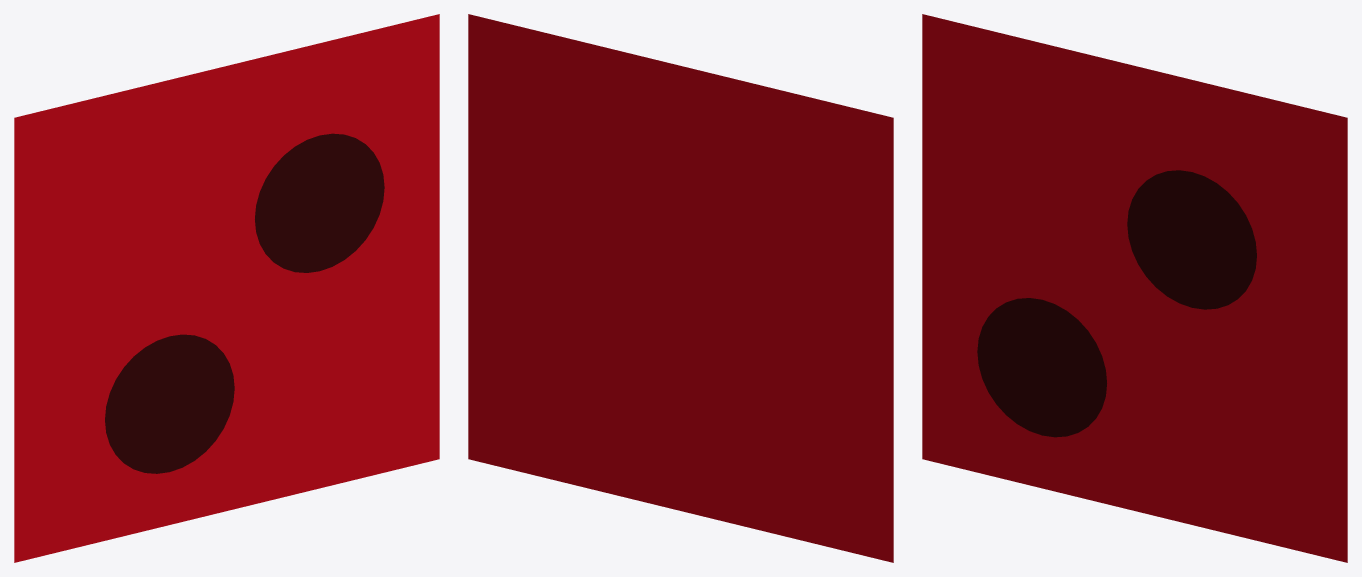
Rendered from enemy-defender-two.glb.
3 views of the same model, side by side, from view 1: azimuth 30°, elevation 25°; view 2: azimuth 150°, elevation 25°; view 3: azimuth 330°, elevation 25° (orthographic).
Visible parts, largest first — view 1: EnemyDefenderTwoOutline, EnemyDefenderTwoHull, EnemyDefenderTwoIndicatorA, EnemyDefenderTwoIndicatorB; view 2: EnemyDefenderTwoOutline; view 3: EnemyDefenderTwoOutline, EnemyDefenderTwoHull, EnemyDefenderTwoIndicatorB, EnemyDefenderTwoIndicatorA.
Part boxes in pixels (x1,y1,x2,y2): EnemyDefenderTwoOutline: [14, 14, 439, 562]; EnemyDefenderTwoHull: [77, 91, 393, 498]; EnemyDefenderTwoIndicatorA: [255, 133, 384, 272]; EnemyDefenderTwoIndicatorB: [105, 334, 234, 473]; EnemyDefenderTwoOutline: [468, 14, 893, 562]; EnemyDefenderTwoOutline: [922, 14, 1347, 562]; EnemyDefenderTwoHull: [968, 91, 1284, 498]; EnemyDefenderTwoIndicatorB: [977, 298, 1106, 437]; EnemyDefenderTwoIndicatorA: [1127, 170, 1256, 309].
Size of the model in its own units: 27.64 by 27.64 by 2.
